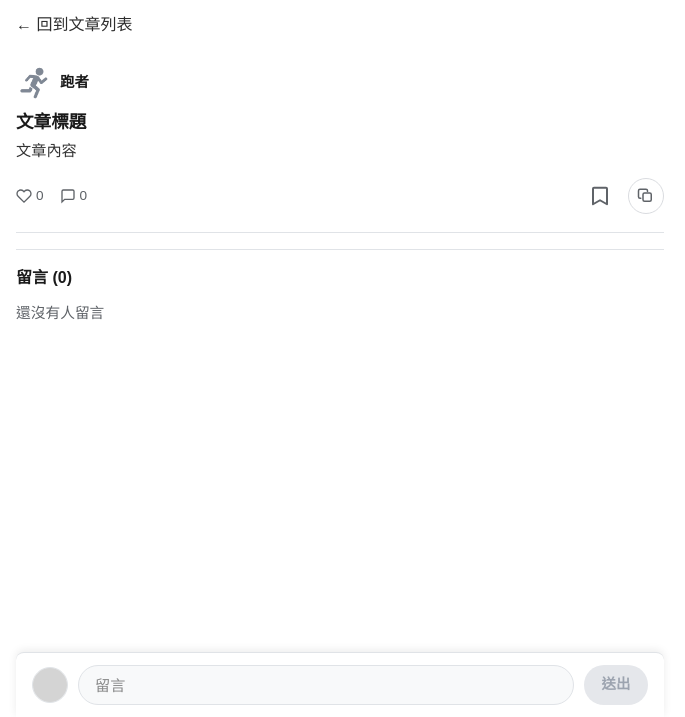
Test: PostDetailScreen share actions › copies the post detail shareUrl from the shared copy-link button
Click the button named "複製連結" at (646, 196), box [628,178,664,214]
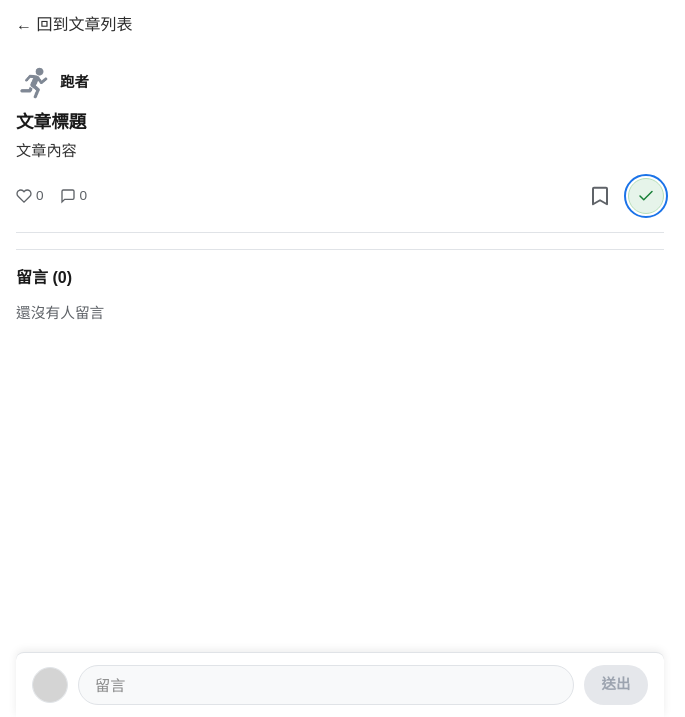
Expected: the button named "已複製連結" is shown, [628,178,664,214]
